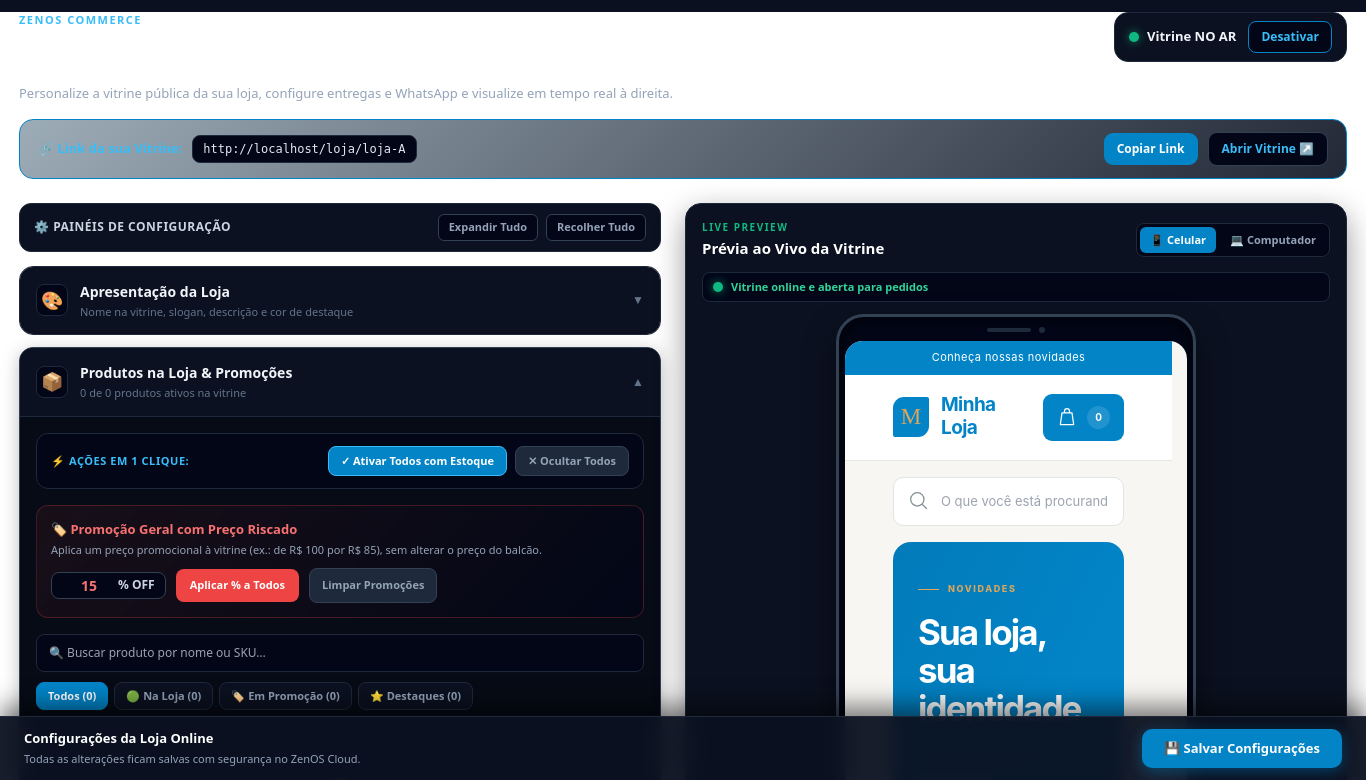
Test: campo de apelido tem texto escuro legível no fundo claro
Click the button "Apresentação da Loja".
click(52, 300)  # box [20,266,660,334]
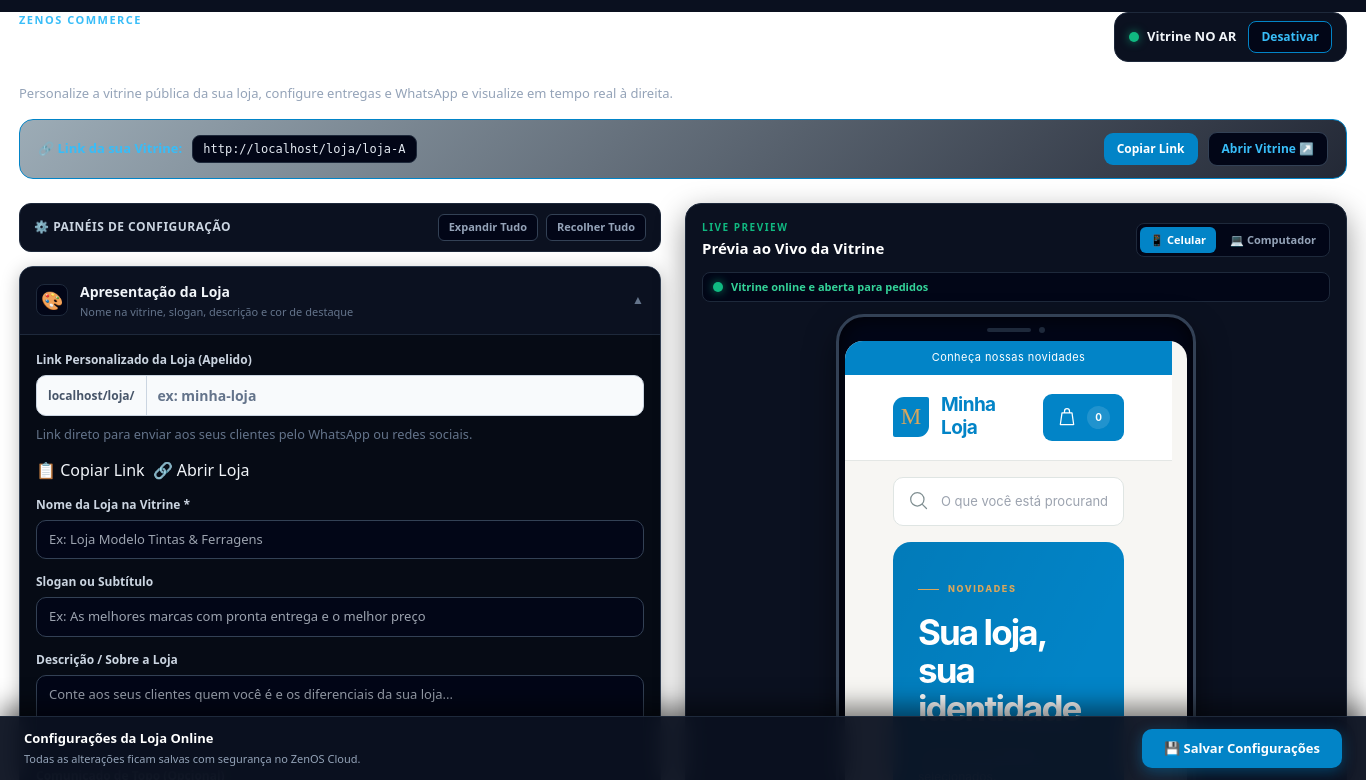
Expected: the field with id "commerce-slug-input" is shown
Type "Minha Loja Nova" into the field with id "commerce-slug-input".
click(395, 396); type("Minha Loja Nova")  # box [147,376,643,415]
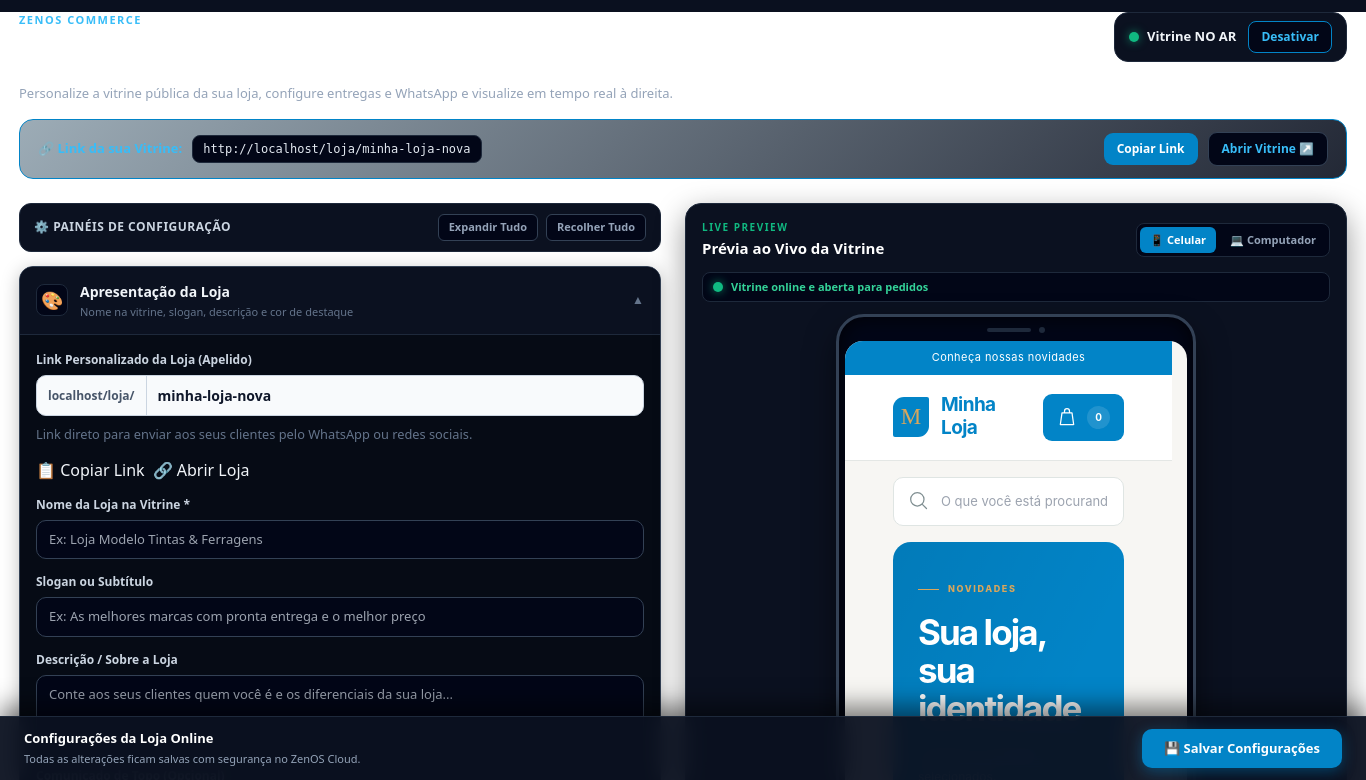
Expected: the field with id "commerce-slug-input" holds "minha-loja-nova", [147,376,643,415]
